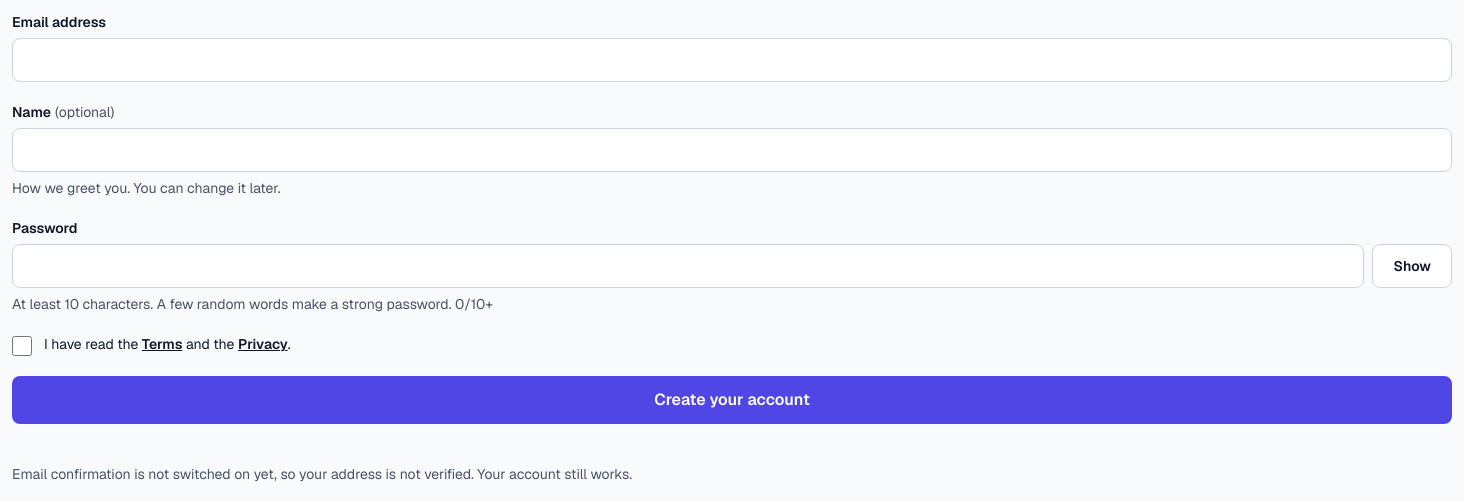
sign up › signs in from the response, forgets the password, and registers only once on a double submit
This screenshot has width=1464, height=501.
Step 1. Type "student@example.test" into the field labelled "Email address" → (732, 60), box left=12, top=38, right=1452, bottom=82
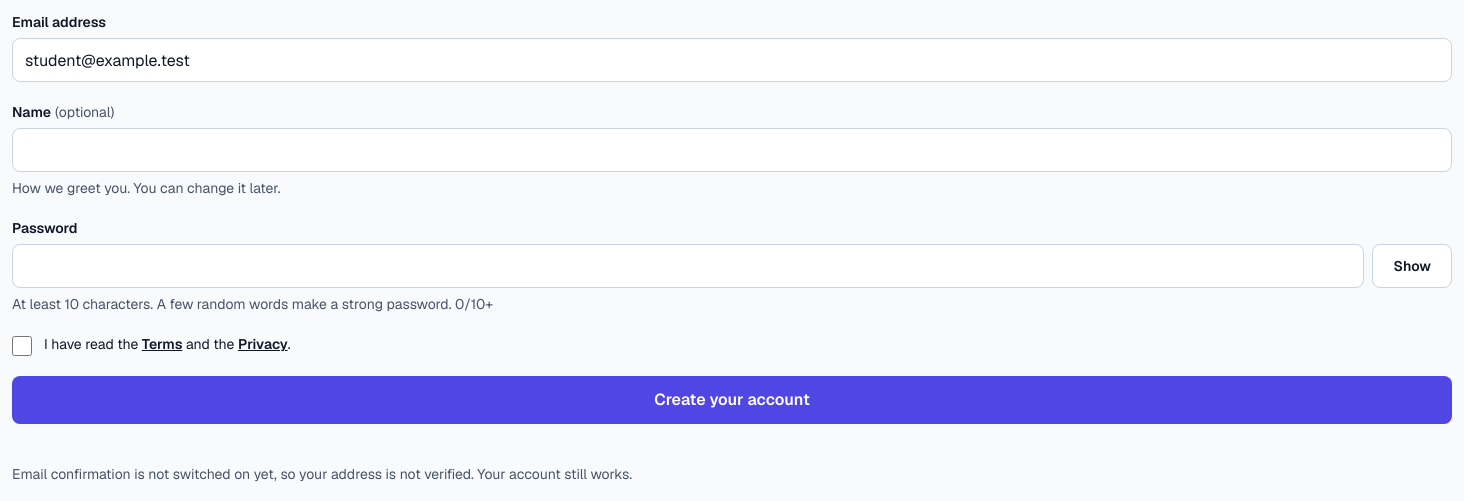
Step 2. Type "correct horse battery 7" into the password field labelled "Password" → (688, 266), box left=12, top=244, right=1364, bottom=288
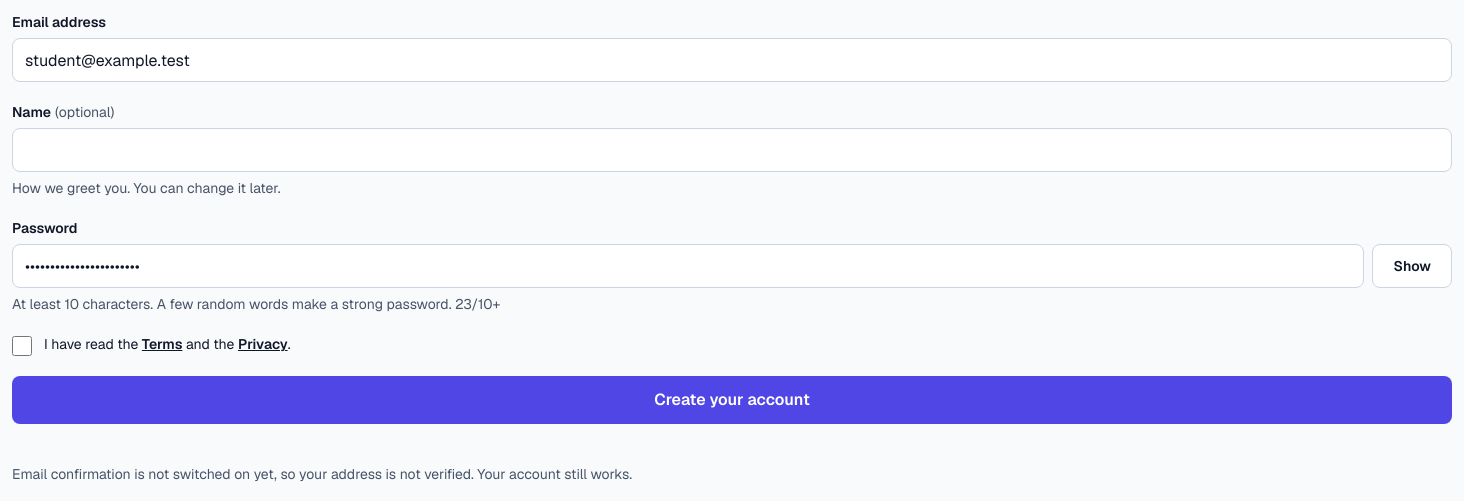
Step 3. Click the checkbox labelled "I have read the Terms and the Privacy ." → (22, 346), box left=12, top=336, right=32, bottom=356
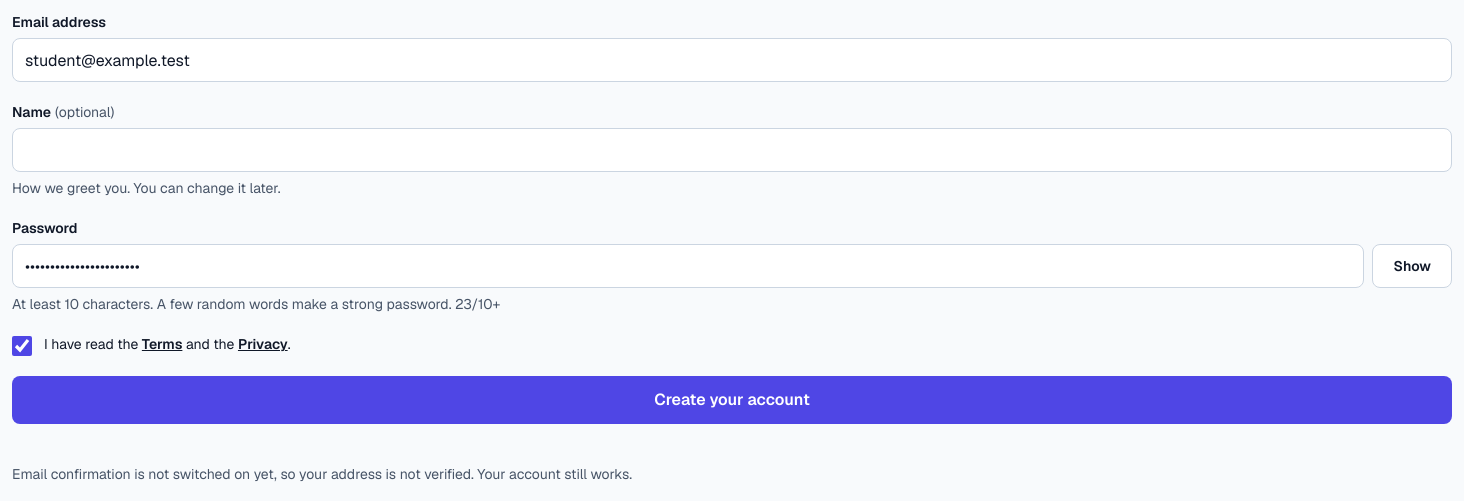
Step 4. Submit the form
Step 5. Submit the form
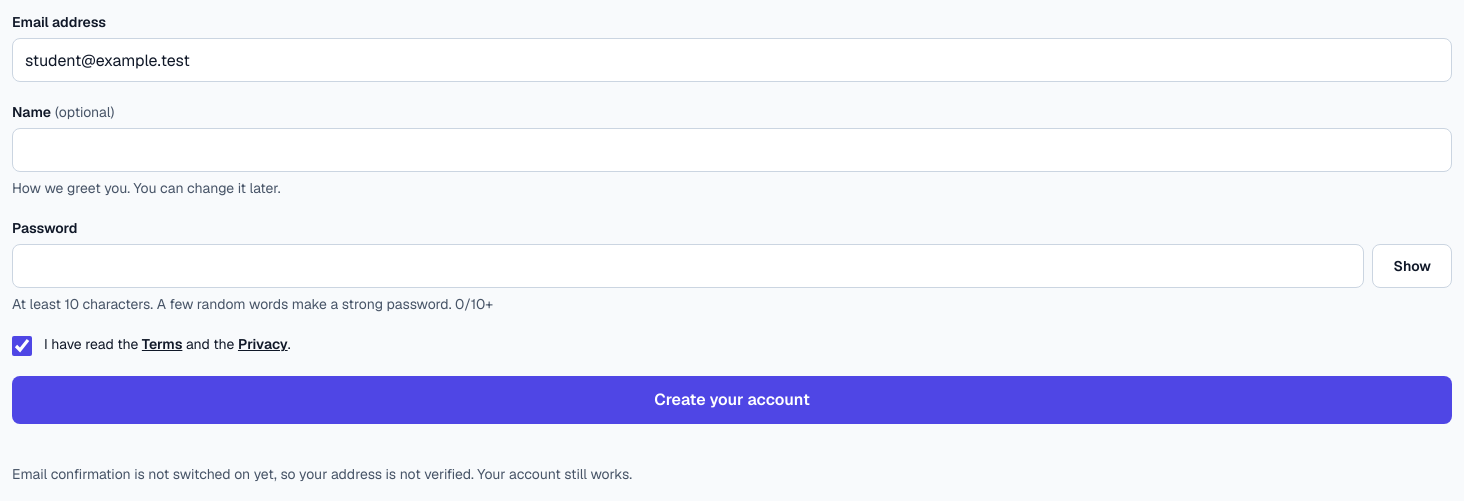
Expected: the button "Create your account" is enabled, left=12, top=376, right=1452, bottom=424
Expected: the password field labelled "Password" is empty, left=12, top=244, right=1364, bottom=288
